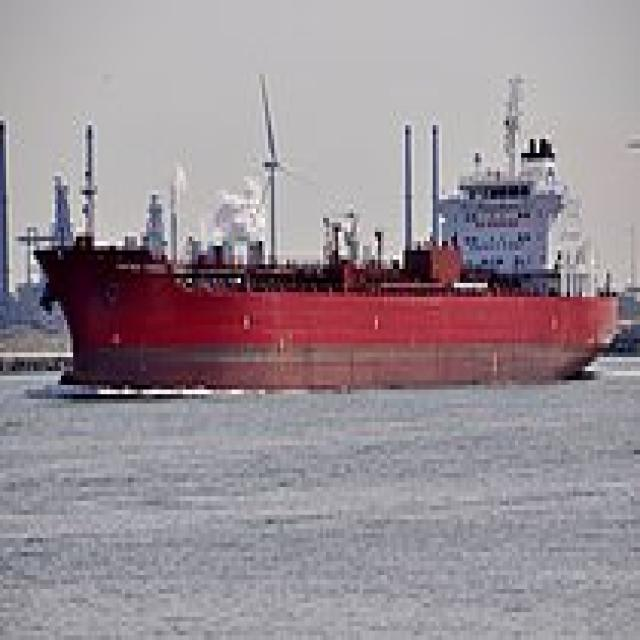Tanker: (24, 125, 622, 390)
